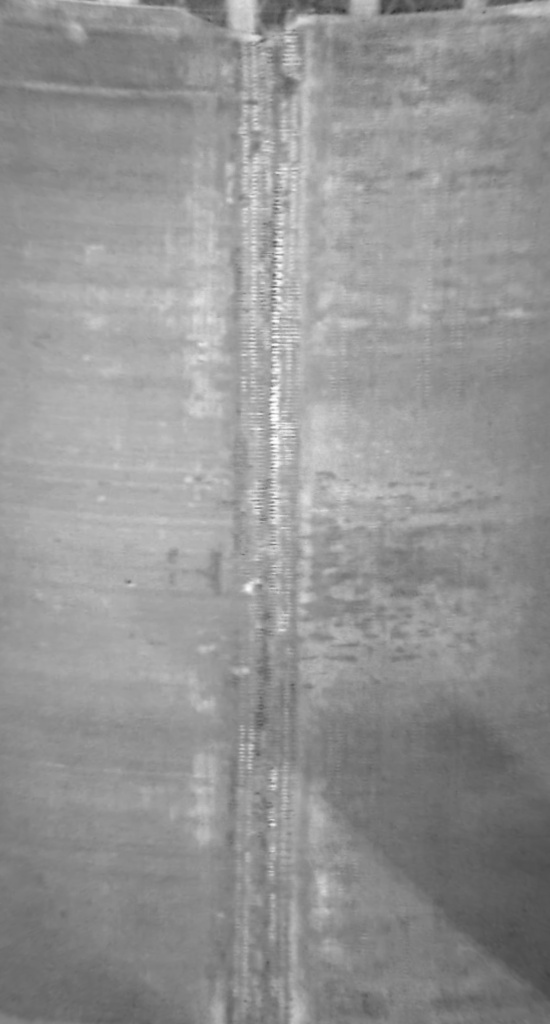splice: (216, 1, 311, 1024)
